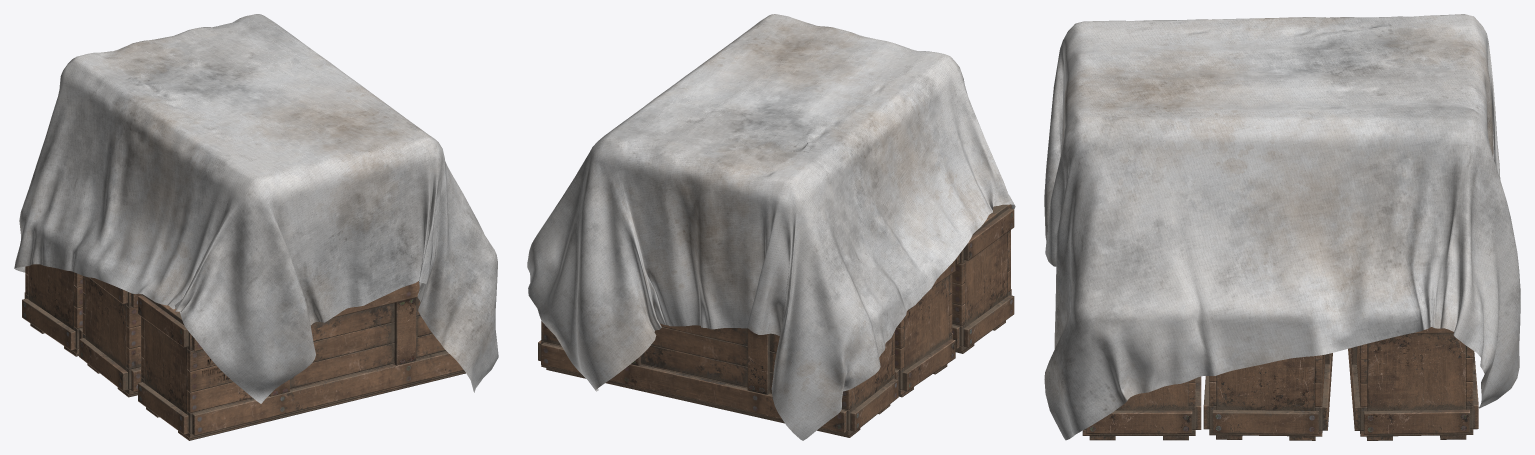
3 renders of one model, left to right at view 1: azimuth 30°, elevation 25°; view 2: azimuth 150°, elevation 25°; view 3: azimuth 270°, elevation 25°, orthographic. The views are drawn at different scales.
Visible parts, largest first — view 1: SM_Box01_5_LOD0; view 2: SM_Box01_5_LOD0; view 3: SM_Box01_5_LOD0.
Part boxes in pixels (x1,y1,x2,y2): SM_Box01_5_LOD0: (14,14,498,440); SM_Box01_5_LOD0: (527,14,1015,440); SM_Box01_5_LOD0: (1044,14,1520,440).
Bounding box in the file's own units: 2.27 × 1.66 × 2.37.
Materials: 2 (2 with a texture image).
